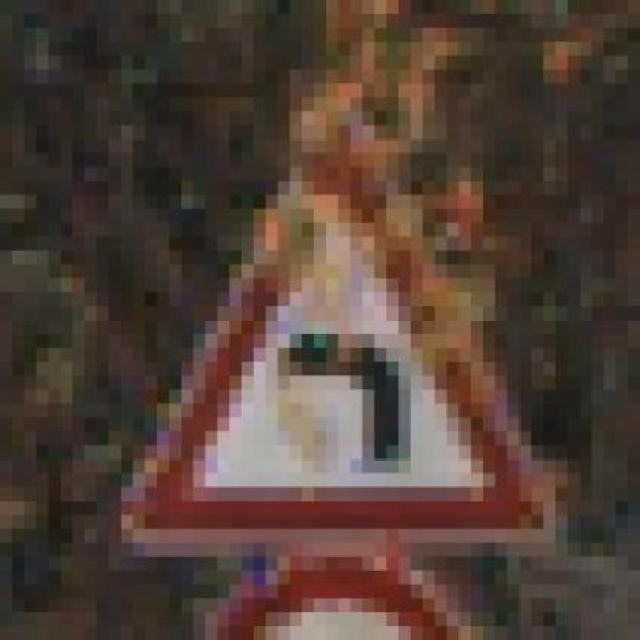Dangerous Left Curve Ahead: (97, 111, 580, 543)
